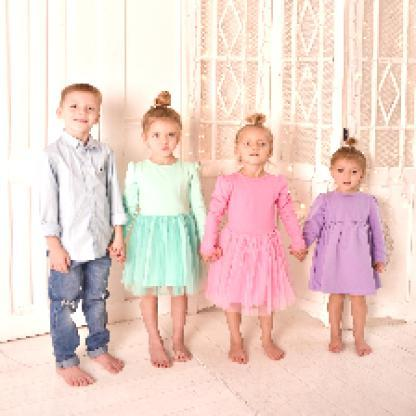child: (113, 91, 223, 370), (35, 84, 128, 389), (201, 113, 311, 368), (290, 137, 389, 358)
